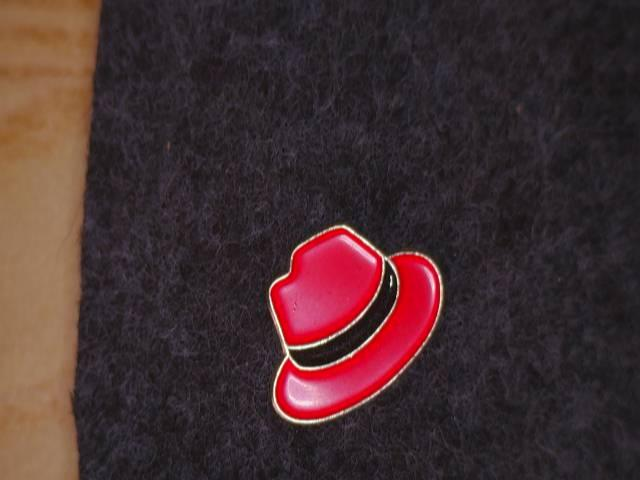Red-Hat: (243, 204, 463, 442)
